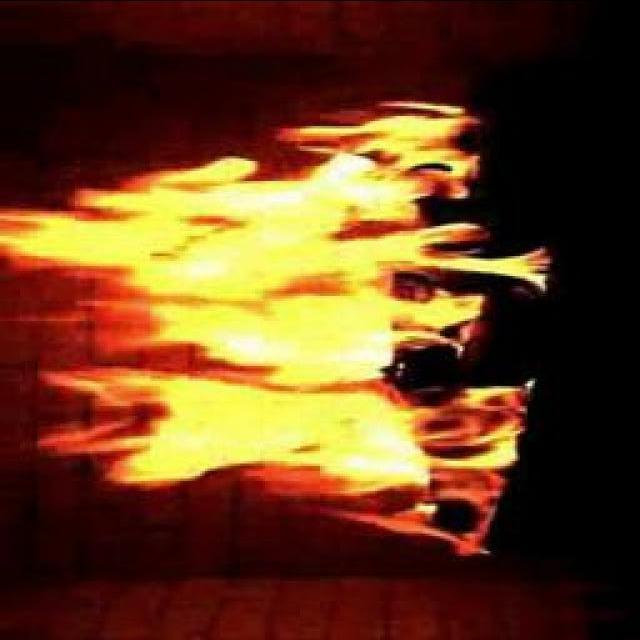Fire: (54, 148, 472, 472)
